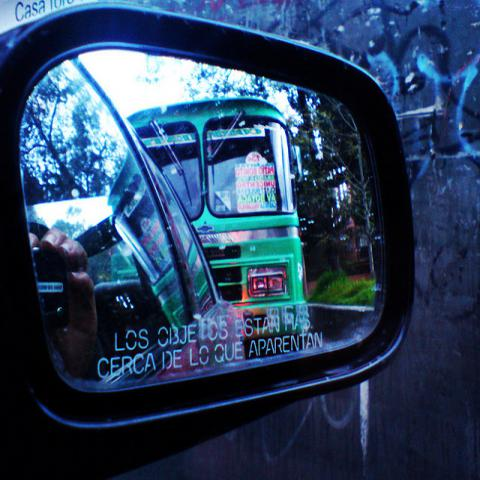bus: (124, 96, 313, 354)
car: (19, 58, 243, 382)
